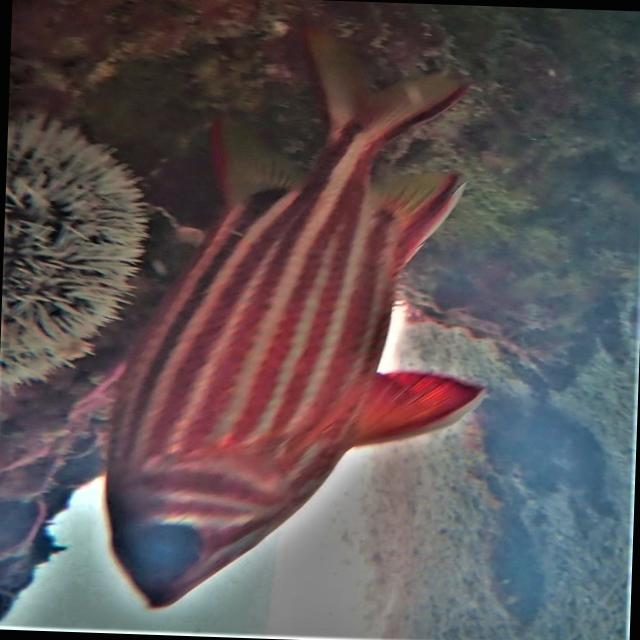Asker Baligi: (94, 14, 498, 622)
